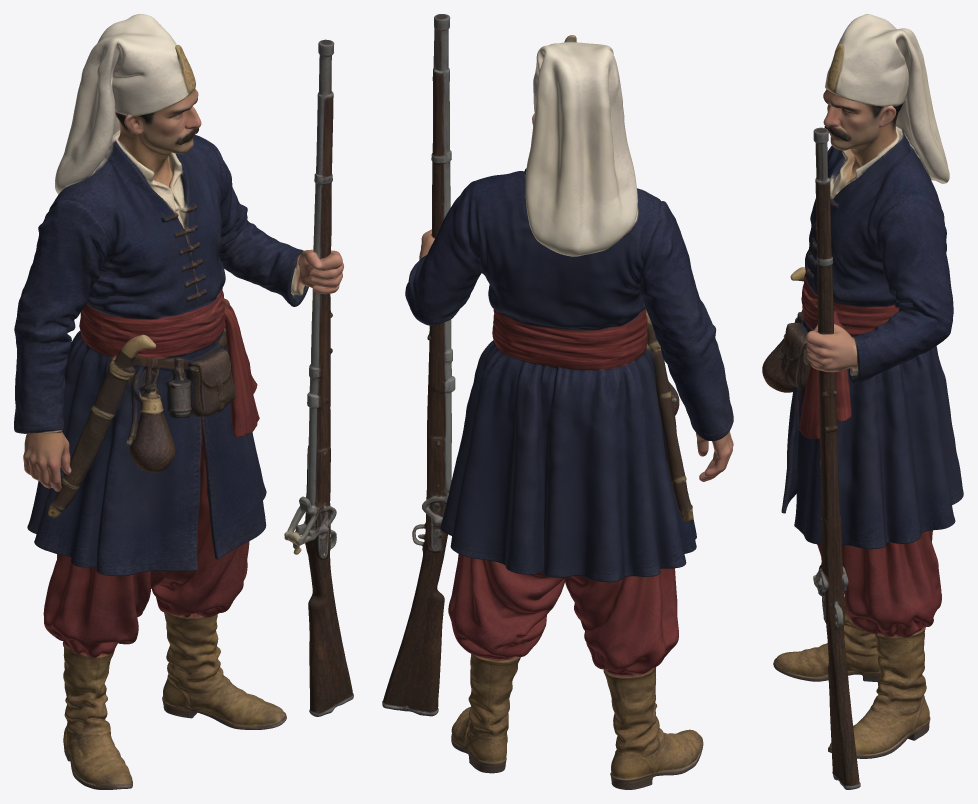
File: yeniceri-klasik-tufekci-1550-1600-v1.glb
The picture shows the model from 3 angles, left to right: view 1: azimuth 30°, elevation 25°; view 2: azimuth 150°, elevation 25°; view 3: azimuth 270°, elevation 25°; orthographic projection. The views are drawn at different scales.
Visible parts, largest first — view 1: tripo_node_7c69ec32-9b8c-4a90-b3e7-df317474569c; view 2: tripo_node_7c69ec32-9b8c-4a90-b3e7-df317474569c; view 3: tripo_node_7c69ec32-9b8c-4a90-b3e7-df317474569c.
Boxes of the visible parts, bbox=[...] form: tripo_node_7c69ec32-9b8c-4a90-b3e7-df317474569c: bbox=[14, 14, 353, 789]; tripo_node_7c69ec32-9b8c-4a90-b3e7-df317474569c: bbox=[382, 14, 733, 789]; tripo_node_7c69ec32-9b8c-4a90-b3e7-df317474569c: bbox=[762, 14, 963, 789].
Bounding box in the file's own units: 0.4946 × 1 × 0.2693.
Materials: 1 (1 with a texture image).
